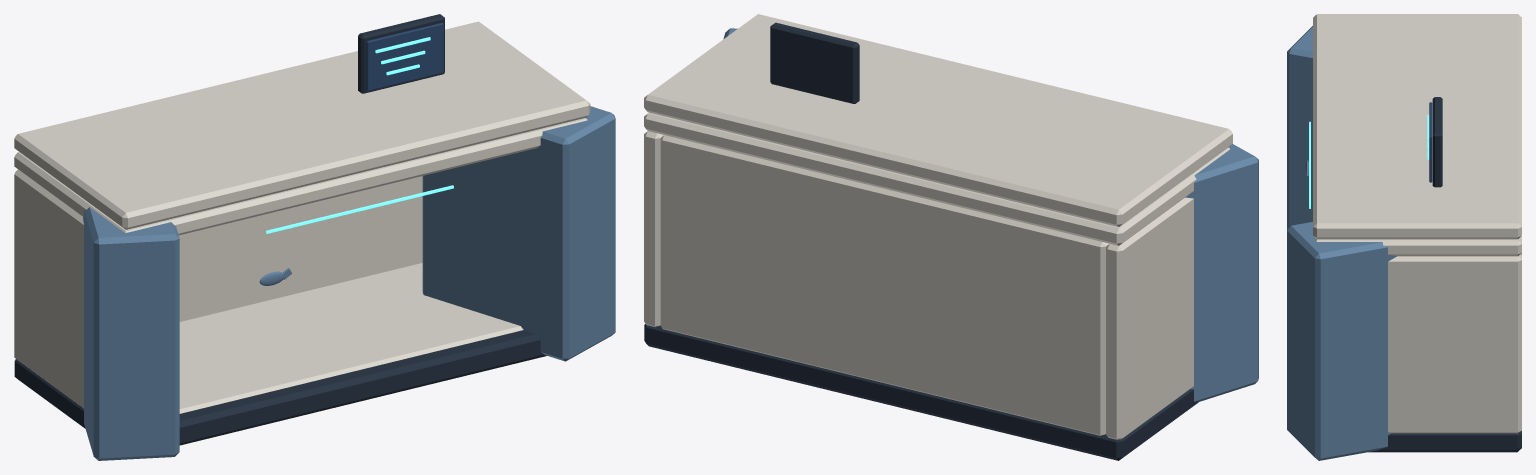
Rendered from clinic_01.glb.
3 views of the same model, side by side, from view 1: azimuth 30°, elevation 25°; view 2: azimuth 150°, elevation 25°; view 3: azimuth 270°, elevation 25° (orthographic). The views are drawn at different scales.
Visible parts, largest first — view 1: CounterWing (×2), CounterCap, Bottom, Back, Side, Base, Top, Screen, MonitorFrame, StatusLight; view 2: Back, CounterCap, Side (×2), CounterWing, Base, Top, MonitorFrame; view 3: CounterCap, CounterWing (×2), Side, Base, Top, MonitorFrame, Screen.
Boxes of the visible parts, bbox=[...] form: CounterWing (×2): bbox=[83, 106, 615, 460]; CounterCap: bbox=[14, 21, 590, 229]; Bottom: bbox=[179, 263, 523, 413]; Back: bbox=[179, 176, 422, 321]; Side: bbox=[14, 169, 83, 408]; Base: bbox=[14, 330, 546, 445]; Top: bbox=[14, 118, 587, 235]; Screen: bbox=[366, 22, 443, 90]; MonitorFrame: bbox=[358, 14, 444, 93]; StatusLight: bbox=[266, 185, 453, 233]; Back: bbox=[660, 135, 1109, 435]; CounterCap: bbox=[644, 14, 1232, 226]; Side (×2): bbox=[644, 131, 1193, 439]; CounterWing: bbox=[1185, 144, 1258, 401]; Base: bbox=[644, 324, 1198, 460]; Top: bbox=[644, 112, 1229, 245]; MonitorFrame: bbox=[770, 22, 859, 103]; CounterCap: bbox=[1313, 14, 1521, 239]; CounterWing (×2): bbox=[1287, 26, 1396, 460]; Side: bbox=[1388, 254, 1521, 433]; Base: bbox=[1368, 431, 1521, 452]; Top: bbox=[1316, 236, 1521, 256]; MonitorFrame: bbox=[1432, 97, 1442, 187]; Screen: bbox=[1429, 102, 1432, 182].
Size of the model in its own units: 2.23 by 1.24 by 0.9337.
